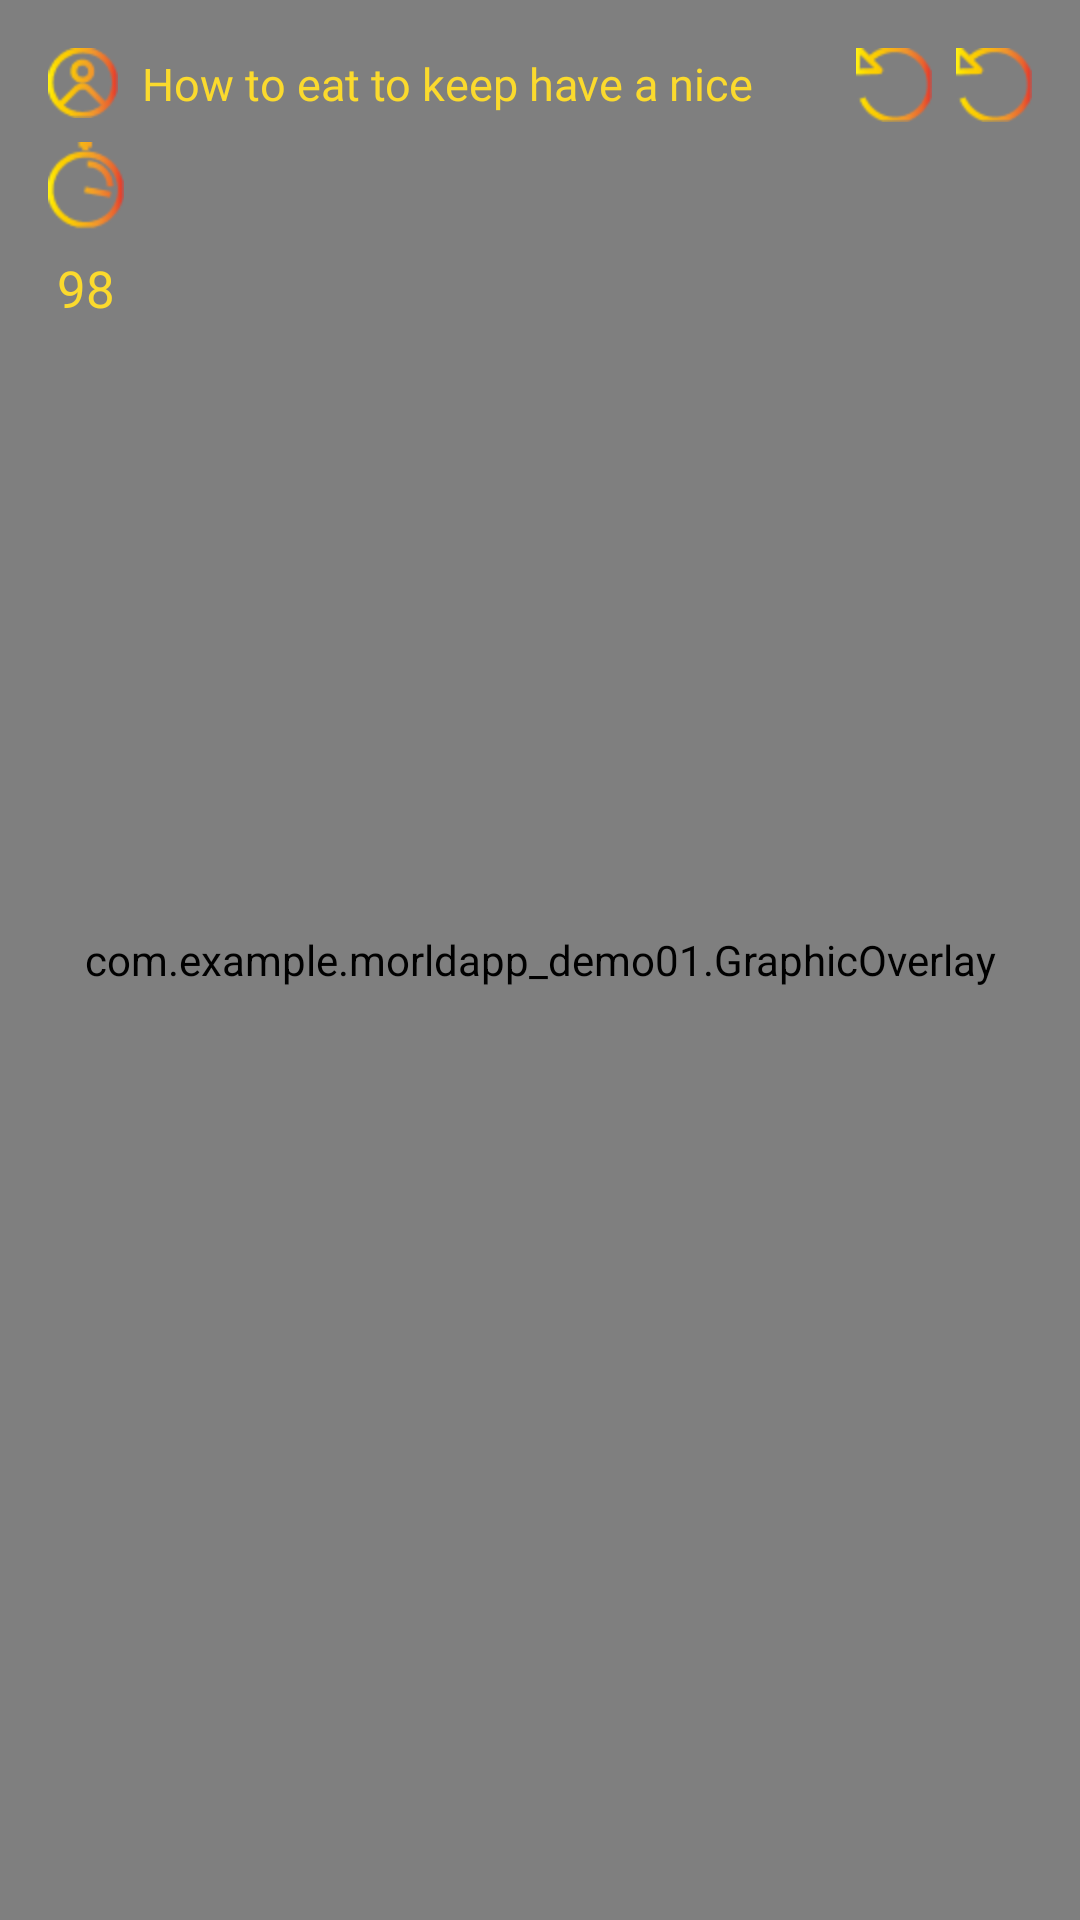

Locate icon controls on the screen. Image size 1080x1920, boxes as [x1, y1, x2, y2].
clock: [48, 142, 124, 228]
retry: [856, 48, 932, 122], [956, 48, 1032, 122]
user: [48, 48, 118, 118]
